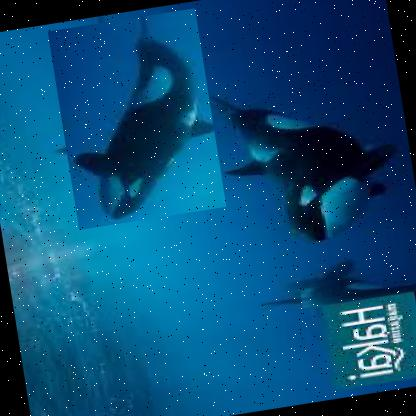killer_whale: (203, 0, 415, 262), (47, 6, 227, 230)
